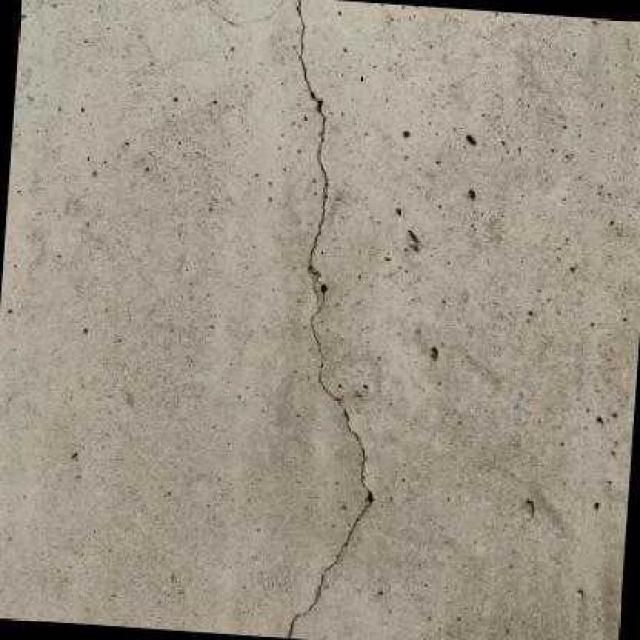D00: (286, 0, 376, 639)
